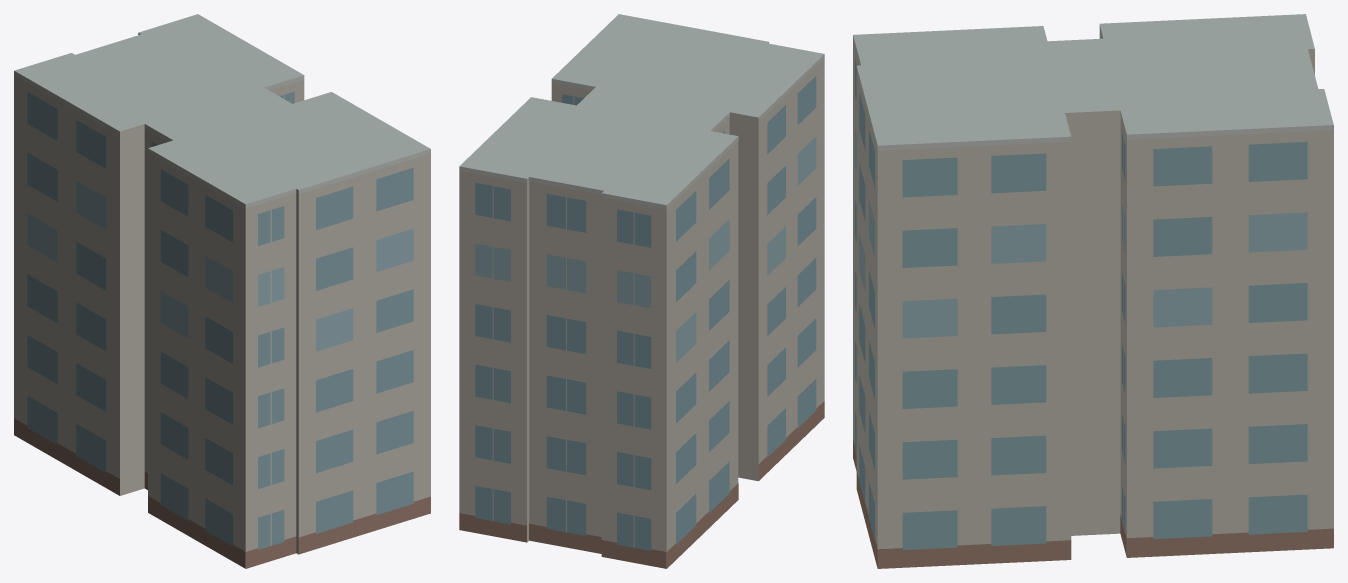
File: survey-upis-33037053.glb
3 views of the same model, side by side, from view 1: azimuth 30°, elevation 25°; view 2: azimuth 150°, elevation 25°; view 3: azimuth 270°, elevation 25° (orthographic). The views are drawn at different scales.
Parts seen in each view (by area): view 1: survey-upis-33037053.tmp; view 2: survey-upis-33037053.tmp; view 3: survey-upis-33037053.tmp.
Part boxes in pixels (x1,y1,x2,y2): survey-upis-33037053.tmp: (14, 14, 430, 568); survey-upis-33037053.tmp: (459, 14, 824, 568); survey-upis-33037053.tmp: (853, 14, 1333, 568).
Bounding box in the file's own units: 13.32 × 19.95 × 20.55.
